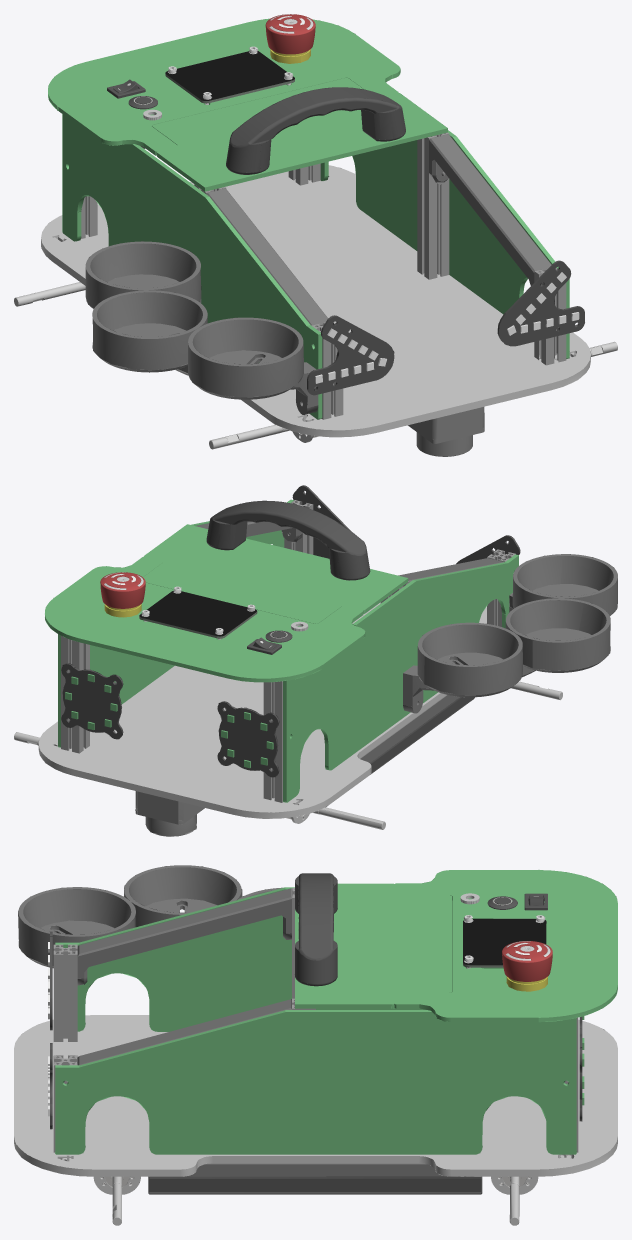
Rendered from eduard-atwork-chassis.dae.
3 renders of one model, top to bottom at view 1: azimuth 30°, elevation 25°; view 2: azimuth 150°, elevation 25°; view 3: azimuth 270°, elevation 25°, orthographic. The views are drawn at different scales.
Parts seen in each view (by area): view 1: Körper1, Körper1.050, Körper1.035, Körper1.006, Körper1.049, Körper1.024, Körper1.026, Körper1.008, Körper1.028, Körper1.002, Körper1.037, Körper1.004 (+12 smaller); view 2: Körper1, Körper1.050, Körper1.035, Körper1.006, Körper1.028, Körper1.026, Körper1.008, Körper1.024, Körper1.037, Körper1.052, Körper1.051, Körper1.049 (+14 smaller); view 3: Körper1.049, Körper1, Körper1.035, Körper1.050, Körper1.006, Körper1.020, Körper1.024, Körper1.022, Körper1.026, Körper1.008, Körper1.037, Körper1.033 (+3 smaller).
Boxes of the visible parts, x1,y1,x2,y2 form: Körper1: (41, 165, 590, 437); Körper1.050: (62, 114, 322, 419); Körper1.035: (48, 18, 400, 155); Körper1.006: (152, 78, 447, 191); Körper1.049: (320, 130, 569, 358); Körper1.024: (188, 317, 303, 399); Körper1.026: (92, 290, 207, 372); Körper1.008: (226, 87, 405, 174); Körper1.028: (85, 241, 201, 308); Körper1.002: (429, 134, 551, 285); Körper1.037: (165, 51, 294, 103); Körper1.004: (417, 132, 449, 279); Körper1: (38, 602, 486, 818); Körper1.050: (283, 554, 518, 802); Körper1.035: (45, 557, 365, 682); Körper1.006: (143, 524, 408, 623); Körper1.028: (417, 622, 522, 697); Körper1.026: (505, 598, 610, 672); Körper1.008: (206, 500, 370, 580); Körper1.024: (512, 554, 617, 615); Körper1.037: (139, 591, 257, 638); Körper1.052: (61, 663, 123, 739); Körper1.051: (217, 701, 279, 777); Körper1.049: (58, 499, 293, 747); Körper1.049: (55, 1010, 576, 1154); Körper1: (14, 1015, 617, 1176); Körper1.035: (394, 870, 617, 1022); Körper1.050: (55, 887, 503, 1031); Körper1.006: (295, 883, 452, 1008); Körper1.020: (148, 1163, 482, 1194); Körper1.024: (18, 887, 135, 968); Körper1.022: (77, 888, 292, 985); Körper1.026: (124, 865, 242, 927); Körper1.008: (294, 873, 337, 986); Körper1.037: (463, 918, 546, 967); Körper1.033: (53, 944, 77, 1041).
Size of the model in its own units: 0.3581 by 0.38 by 0.1801.
